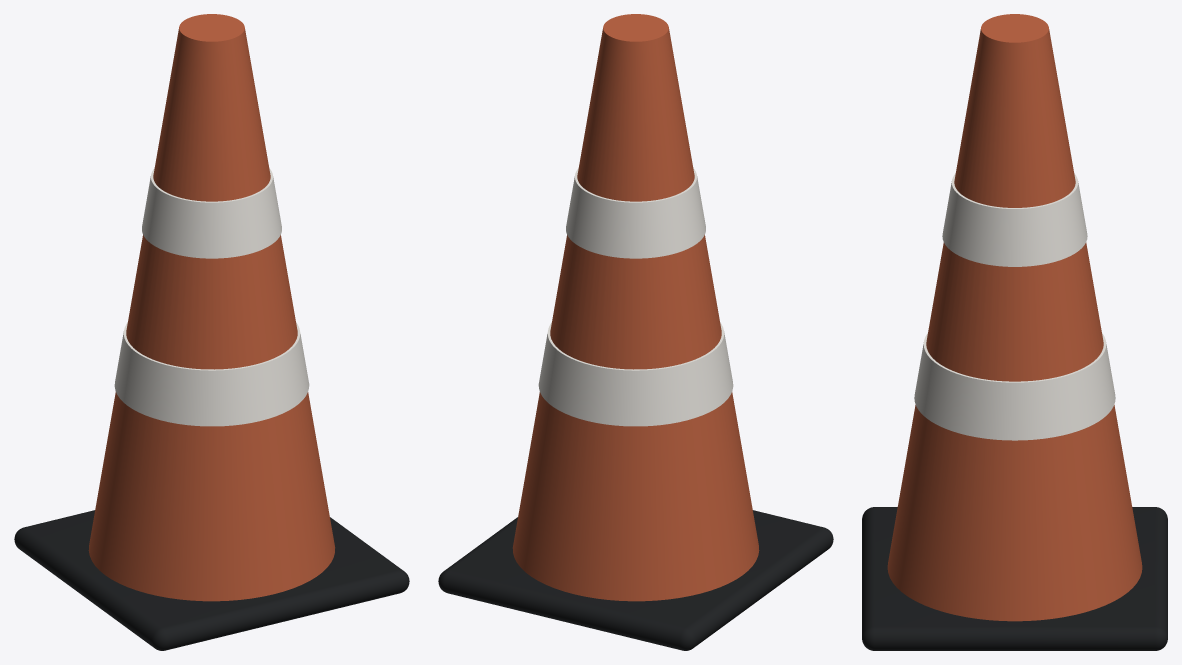
Rendered from kerucut.glb.
3 renders of one model, left to right at view 1: azimuth 30°, elevation 25°; view 2: azimuth 150°, elevation 25°; view 3: azimuth 270°, elevation 25°, orthographic. The views are drawn at different scales.
Parts seen in each view (by area): view 1: badan, alas, pita0, pita1; view 2: badan, alas, pita0, pita1; view 3: badan, alas, pita0, pita1.
Part boxes in pixels (x1=…): badan: x1=88, y1=14, x2=335, y2=601; alas: x1=14, y1=510, x2=409, y2=650; pita0: x1=114, y1=322, x2=309, y2=426; pita1: x1=142, y1=168, x2=281, y2=258; badan: x1=512, y1=14, x2=759, y2=601; alas: x1=438, y1=510, x2=833, y2=650; pita0: x1=538, y1=322, x2=733, y2=426; pita1: x1=566, y1=168, x2=705, y2=258; badan: x1=887, y1=14, x2=1142, y2=621; alas: x1=862, y1=507, x2=1167, y2=650; pita0: x1=914, y1=333, x2=1115, y2=440; pita1: x1=942, y1=173, x2=1087, y2=266.
Size of the model in its own units: 0.36 by 0.73 by 0.36.
